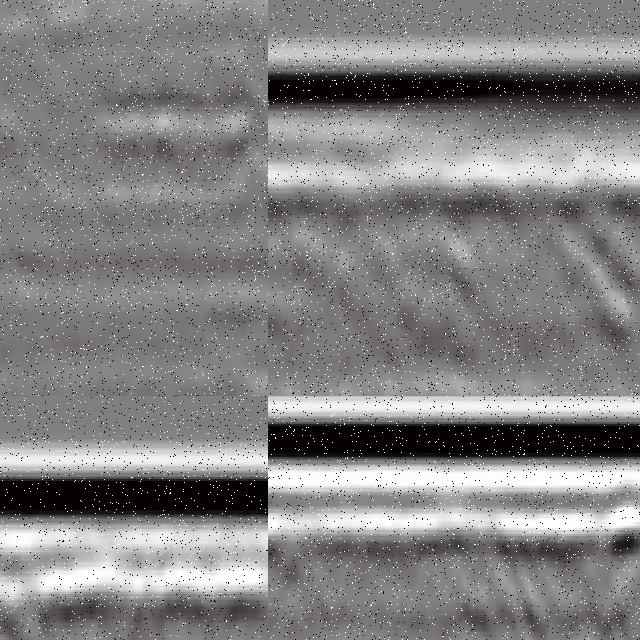loose: (269, 181, 640, 369), (85, 60, 269, 217), (459, 488, 640, 640)
